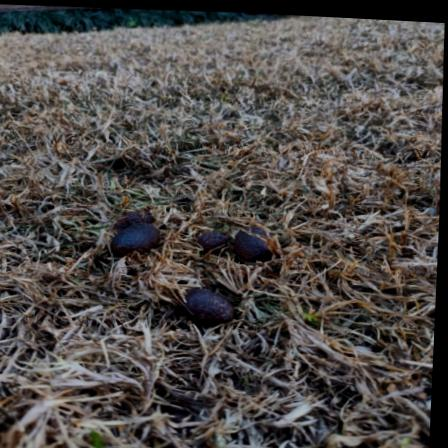dog-poop: (85, 190, 298, 331)
